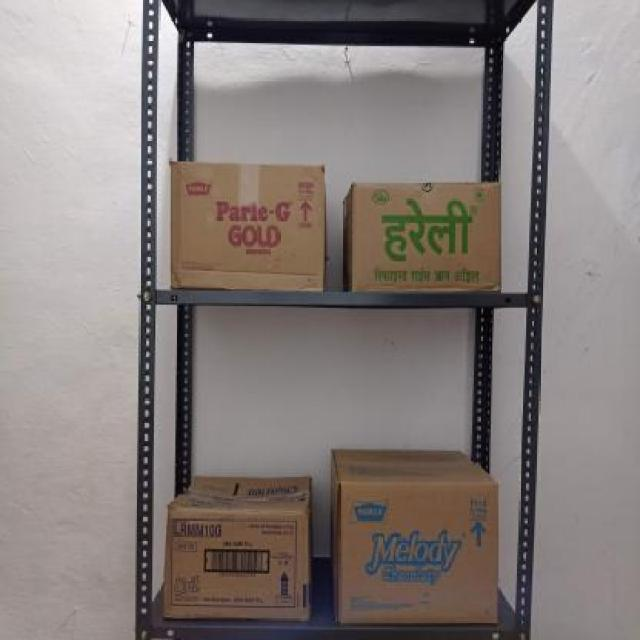box: (336, 478, 502, 626), (168, 159, 324, 292), (349, 182, 503, 290), (162, 510, 310, 618)
